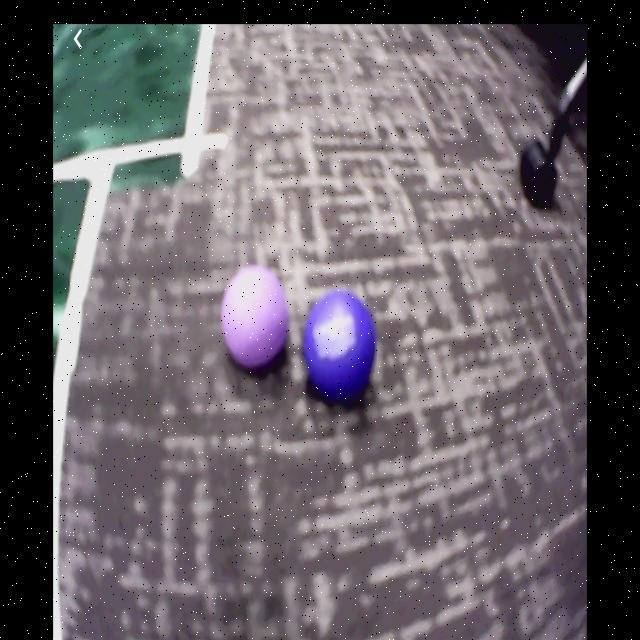ball: (304, 289, 376, 402), (223, 265, 286, 366)
